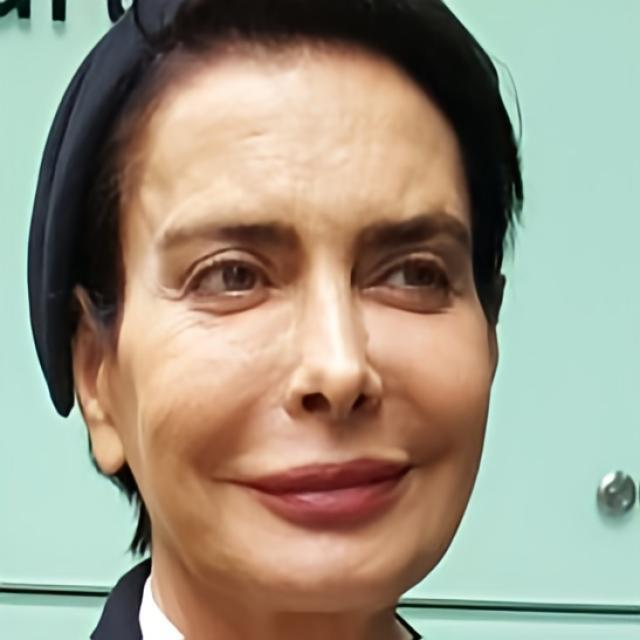content: (110, 32, 490, 600)
